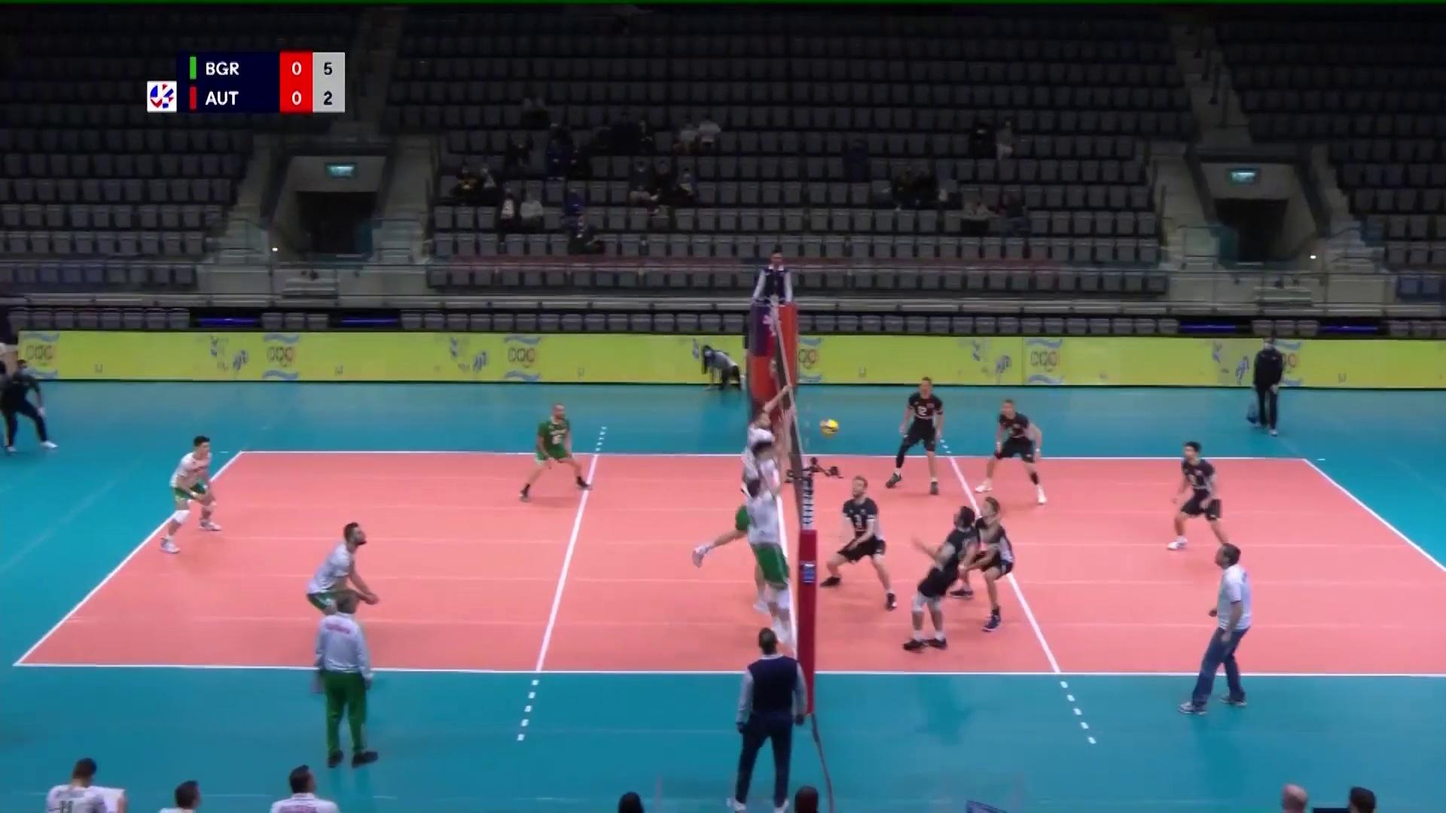ball: (820, 418, 840, 435)
